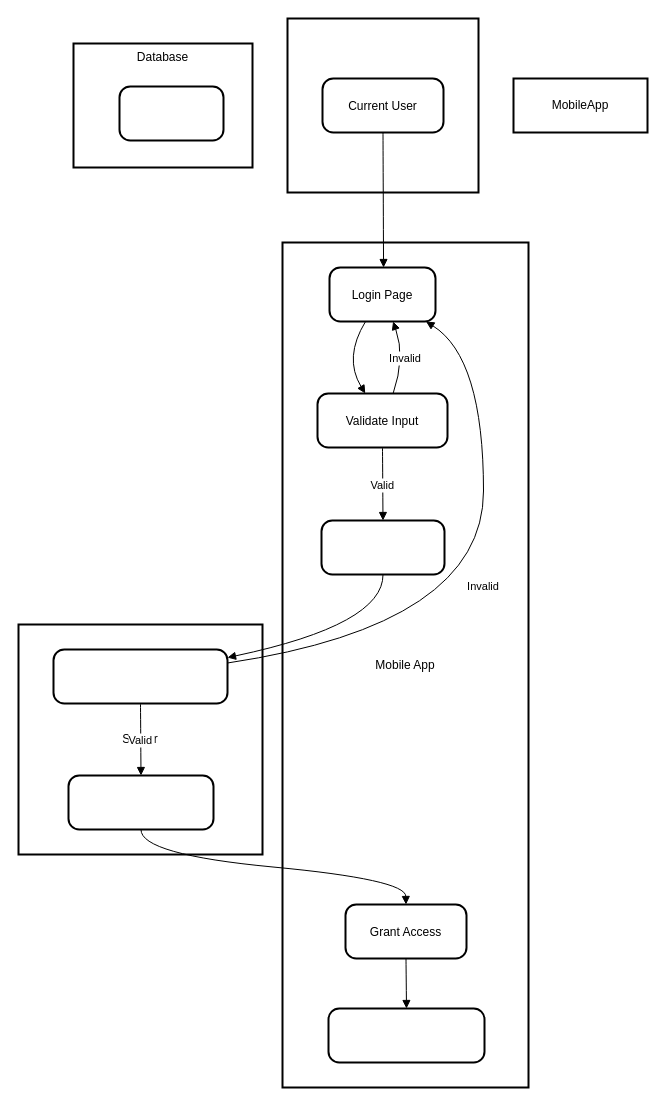
Some shapes in this 665 by 1105 pixel diagram are drawn without their labels. Here are the shapes that lost their labels. From the top down, the centre of each, then its label:
At (171,113): "User Table".
At (382,547): "Authenticate".
At (140,676): "Validate Credentials".
At (140,802): "Fetch User Data".
At (406,1035): "Redirect to Home".
